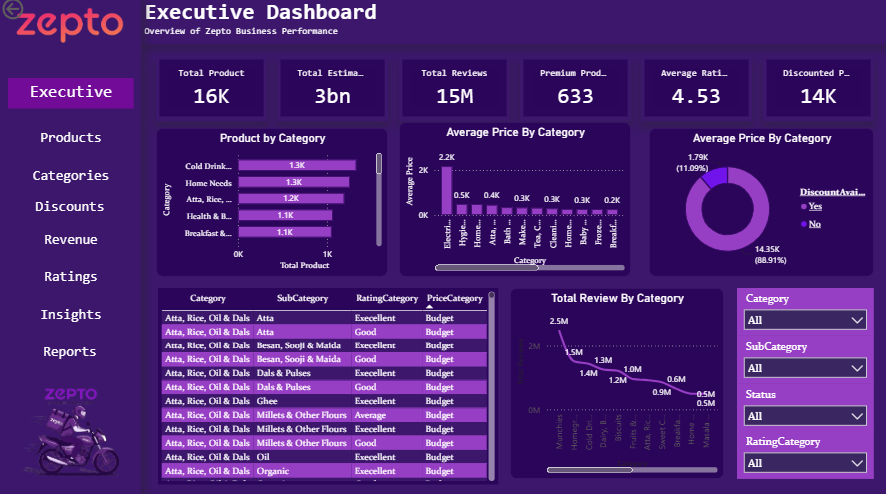

This screenshot's page, from the dashboard's own definition file:
{"tool":"powerbi","page":{"name":"Executive Dashboard","canvas":[1280,720],"ordinal":0},"visuals":[{"type":"textbox","box":[0,0,1280,720],"z":0},{"type":"textbox","box":[204.3,0,1075.7,71.4],"z":1000},{"type":"textbox","box":[0,0,204.3,720],"z":2000},{"type":"textbox","box":[12.9,120,181.4,44.3],"z":3000},{"type":"image","box":[0,0,204.3,87.1],"z":4000},{"type":"actionButton","box":[12.9,182.9,181.4,44.3],"z":5000},{"type":"actionButton","box":[12.9,237.1,181.4,44.3],"z":6000},{"type":"actionButton","box":[11.4,282.9,181.4,44.3],"z":7000},{"type":"actionButton","box":[12.9,330,181.4,44.3],"z":8000},{"type":"actionButton","box":[12.9,382.9,181.4,44.3],"z":9000},{"type":"actionButton","box":[12.9,437.1,181.4,44.3],"z":10000},{"type":"actionButton","box":[11.4,491.4,181.4,44.3],"z":11000},{"type":"cardVisual","fields":{"Data":["zepto.Total Product"]},"box":[225.7,87.1,160,92.9],"z":12000},{"type":"cardVisual","fields":{"Data":["zepto.Total Estimated Revenue"]},"box":[400.6,87.1,160,92.9],"z":13000},{"type":"cardVisual","fields":{"Data":["zepto.Total Reviews"]},"box":[575.4,87.1,160,92.9],"z":14000},{"type":"cardVisual","fields":{"Data":["zepto.Premium Products"]},"box":[750.3,87.1,160,92.9],"z":15000},{"type":"cardVisual","fields":{"Data":["zepto.Average Rating"]},"box":[925.1,87.1,160,92.9],"z":16000},{"type":"cardVisual","fields":{"Data":["zepto.Discounted Products"]},"box":[1100,87.1,160,92.9],"z":17000},{"type":"barChart","title":"Product by Category","fields":{"Category":["zepto.Category"],"Y":["zepto.Total Product"]},"box":[225.7,191.4,334.3,214.3],"z":17001},{"type":"clusteredColumnChart","title":"Average Price By Category","fields":{"Category":["zepto.Category"],"Y":["zepto.Average Price"]},"box":[575.7,182.9,334.3,222.9],"z":17002},{"type":"donutChart","title":"Average Price By Category","fields":{"Category":["zepto.DiscountAvailable"],"Y":["CountNonNull(zepto.PremiumProduct)"]},"box":[935.7,191.4,324.3,214.3],"z":17003},{"type":"tableEx","fields":{"Values":["zepto.Category","zepto.SubCategory","zepto.RatingCategory","zepto.PriceCategory"]},"box":[228.3,421.7,490,283.3],"z":17004},{"type":"actionButton","box":[0,0,100,40],"z":17005},{"type":"image","box":[0,536.7,205,183.3],"z":17006}]}

Visuals, with their boxes in screenshot pixels (x1, y1, x2, y2), scaled from the page's 1280x720 canvas onto the 886x494 screenshot:
textbox: bbox=[0, 0, 885, 493]
textbox: bbox=[141, 0, 885, 49]
textbox: bbox=[0, 0, 141, 493]
textbox: bbox=[9, 82, 134, 113]
image: bbox=[0, 0, 141, 60]
actionButton: bbox=[9, 125, 134, 156]
actionButton: bbox=[9, 163, 134, 193]
actionButton: bbox=[8, 194, 133, 224]
actionButton: bbox=[9, 226, 134, 257]
actionButton: bbox=[9, 263, 134, 293]
actionButton: bbox=[9, 300, 134, 330]
actionButton: bbox=[8, 337, 133, 368]
cardVisual - zepto.Total Product: bbox=[156, 60, 267, 124]
cardVisual - zepto.Total Estimated Revenue: bbox=[277, 60, 388, 124]
cardVisual - zepto.Total Reviews: bbox=[398, 60, 509, 124]
cardVisual - zepto.Premium Products: bbox=[519, 60, 630, 124]
cardVisual - zepto.Average Rating: bbox=[640, 60, 751, 124]
cardVisual - zepto.Discounted Products: bbox=[761, 60, 872, 124]
"Product by Category" barChart: bbox=[156, 131, 388, 278]
"Average Price By Category" clusteredColumnChart: bbox=[398, 125, 630, 278]
"Average Price By Category" donutChart: bbox=[648, 131, 872, 278]
tableEx - zepto.Category x zepto.SubCategory: bbox=[158, 289, 497, 484]
actionButton: bbox=[0, 0, 69, 27]
image: bbox=[0, 368, 142, 493]
